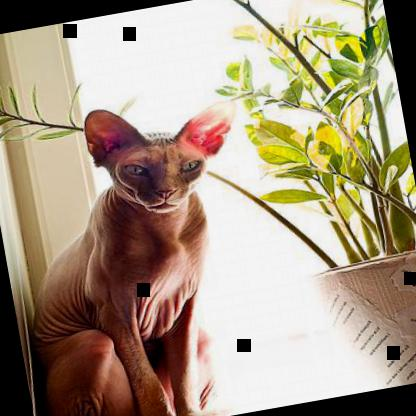cat: (0, 85, 290, 415)
